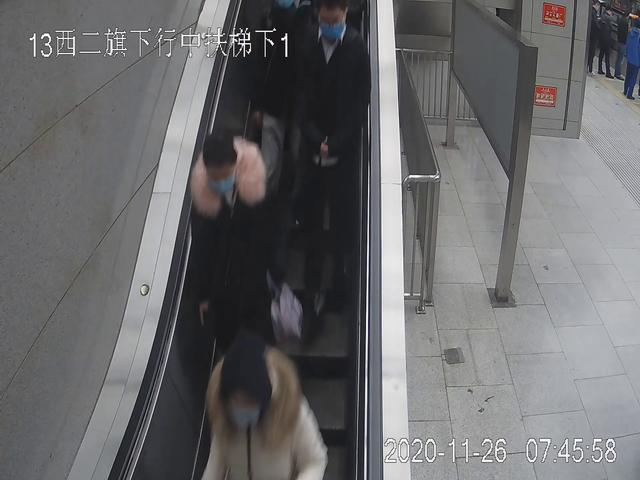person: (187, 133, 289, 427), (284, 2, 370, 314), (203, 342, 329, 480), (599, 6, 619, 80), (622, 22, 640, 102)
